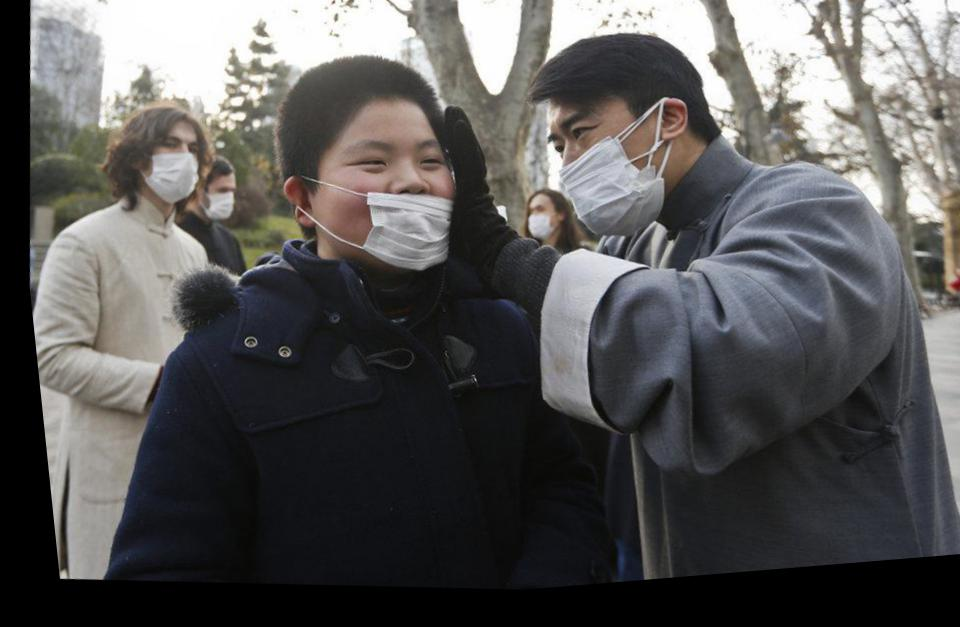OK: (533, 94, 670, 258), (136, 129, 205, 209), (194, 171, 238, 226), (520, 203, 560, 251)
WRONG: (310, 117, 463, 287)
